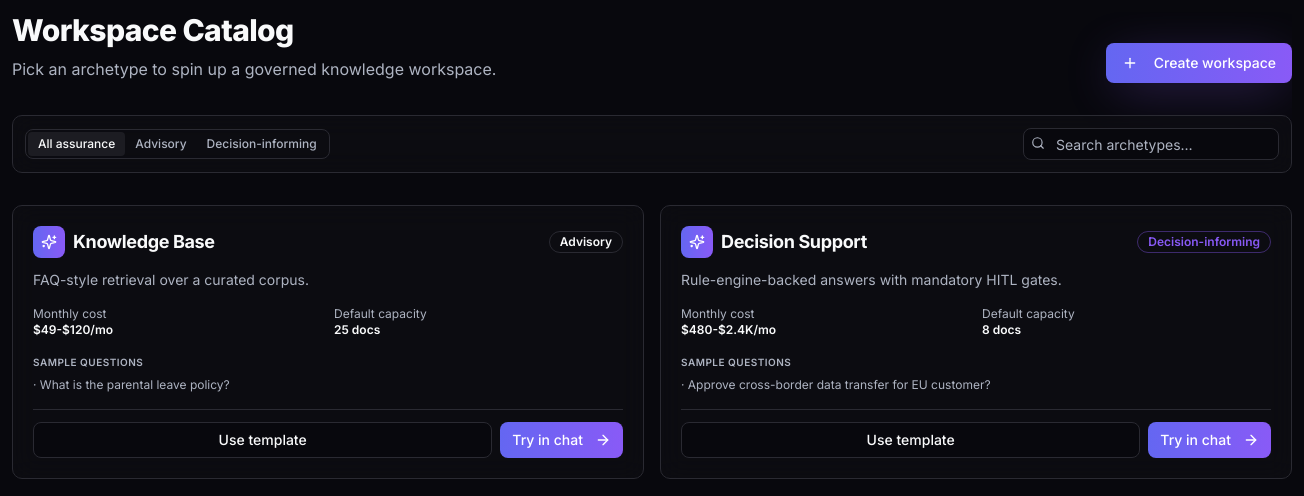
Catalog archetypes › filters by assurance level
Expected: the heading "Knowledge Base" is shown, [73,228,215,256]
Click the button "Decision-informing".
click(262, 144)  # box [197,132,327,156]
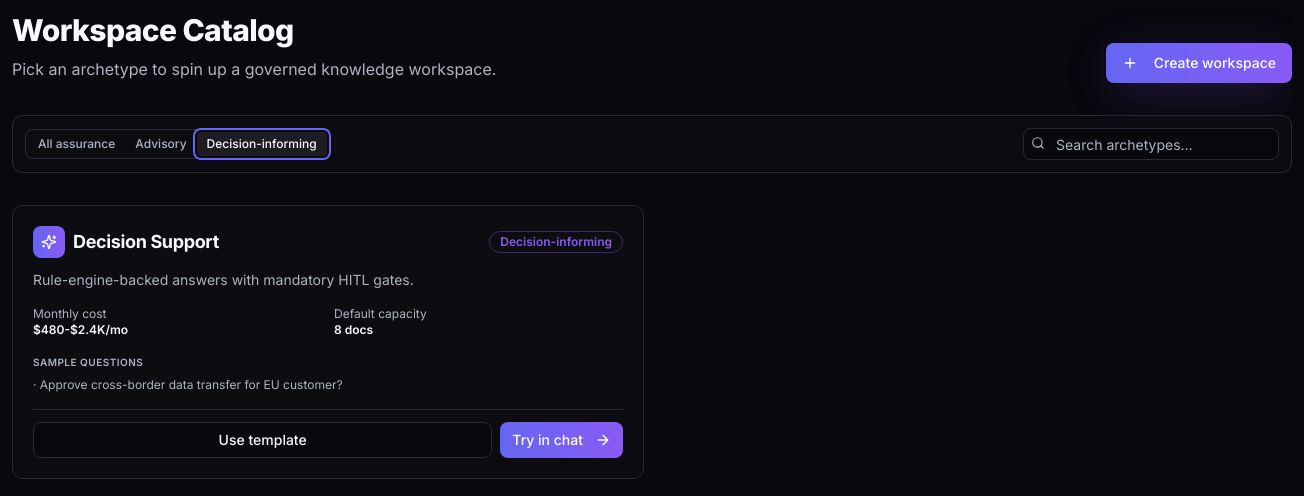
Expected: the heading "Decision Support" is shown, [73,228,219,256]
Now the heading "Knowledge Base" is gone
